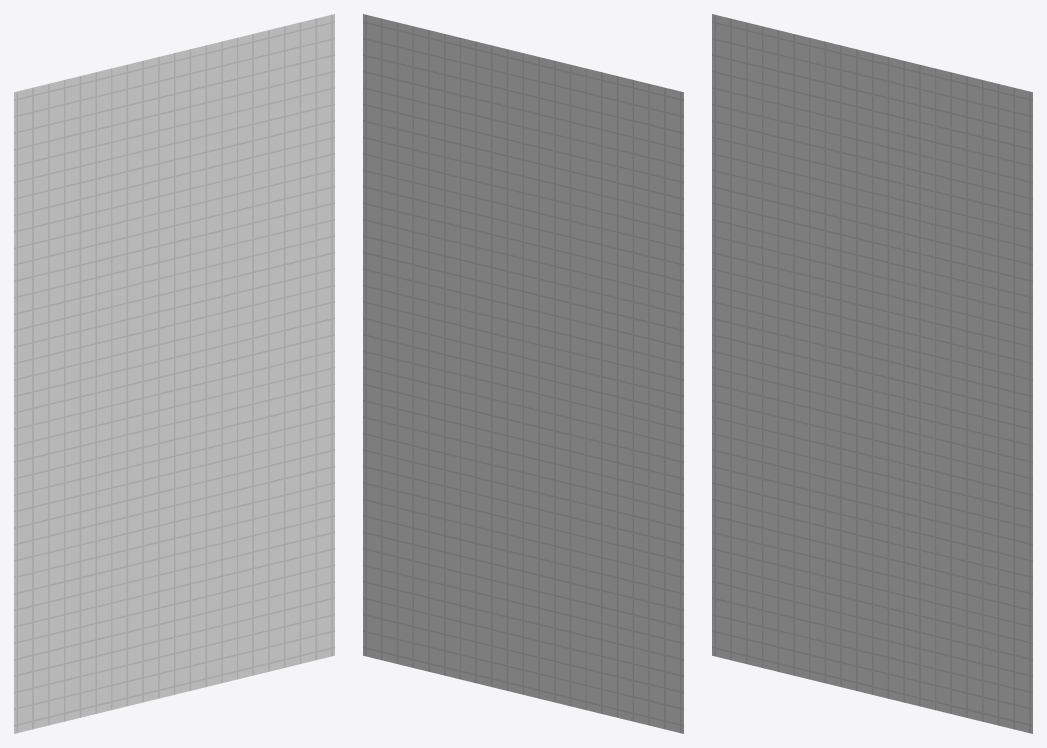
File: red 2.fbx
The picture shows the model from 3 angles, left to right: view 1: azimuth 30°, elevation 25°; view 2: azimuth 150°, elevation 25°; view 3: azimuth 330°, elevation 25°; orthographic projection.
Parts seen in each view (by area): view 1: Object277; view 2: Object277; view 3: Object277.
Boxes of the visible parts, x1,y1,x2,y2 form: Object277: (14, 14, 334, 733); Object277: (363, 14, 683, 733); Object277: (712, 14, 1032, 733).
Bounding box in the file's own units: 1.27 × 2.44 × 5.96e-07.
1 material, 1 textured.
